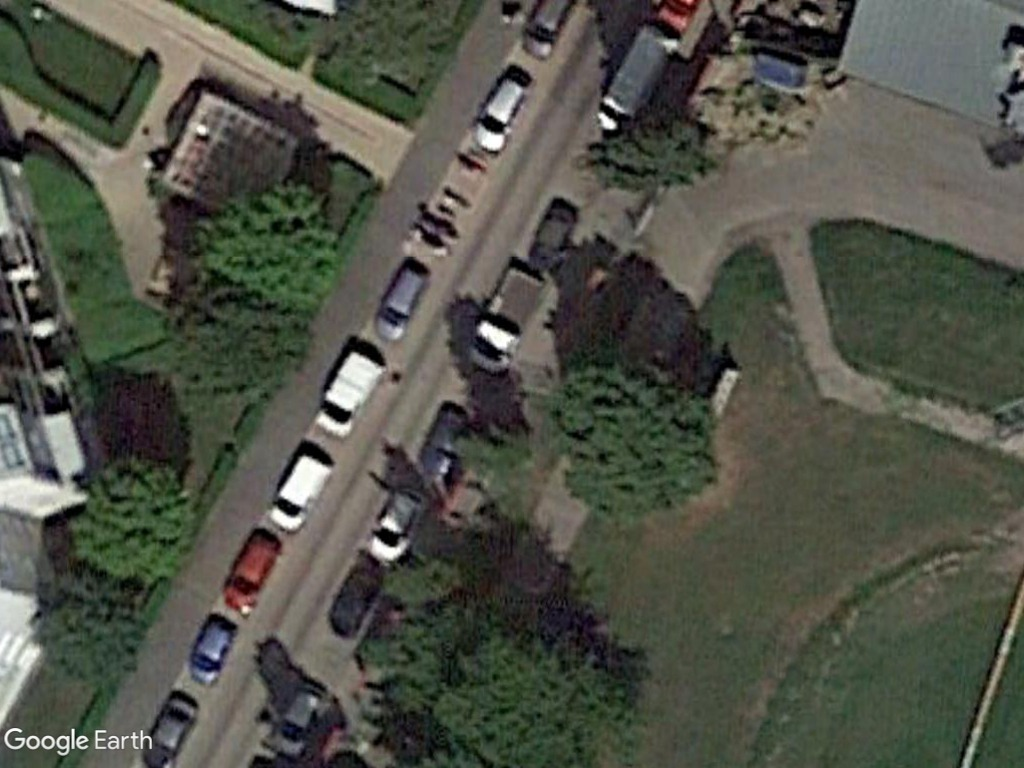car: (358, 485, 434, 569), (466, 71, 534, 160), (366, 257, 432, 347), (219, 527, 287, 614), (184, 610, 240, 686)
truck: (306, 343, 388, 439)
van: (258, 450, 336, 531)
